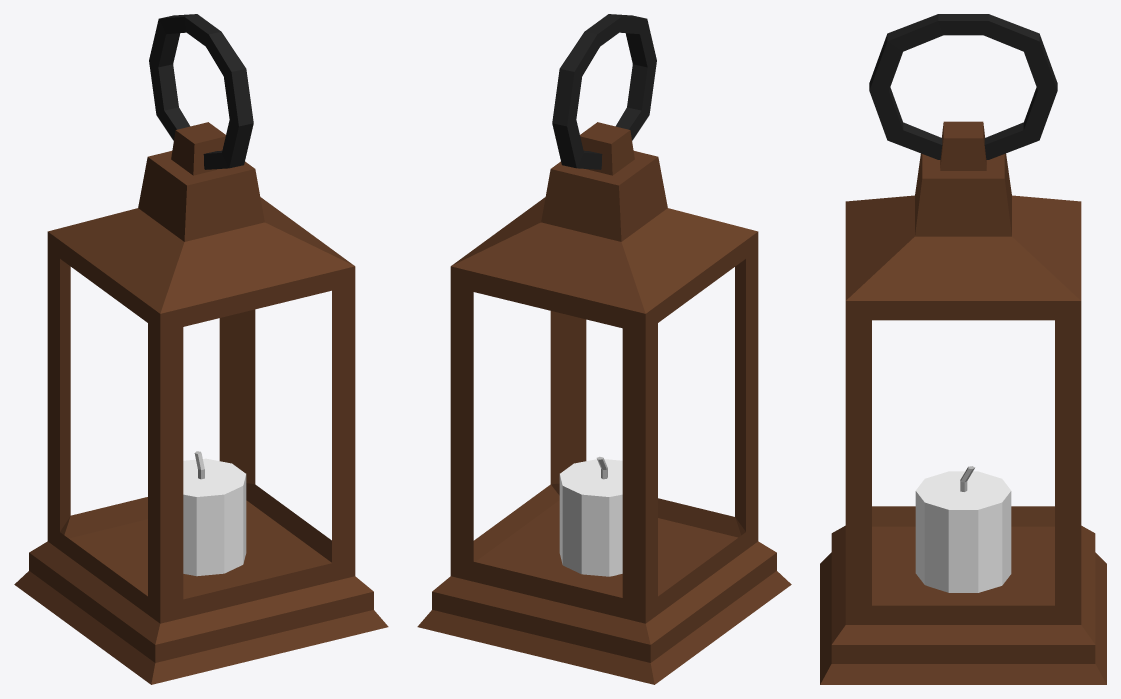
The model's file is lamp02.obj.
3 renders of one model, left to right at view 1: azimuth 30°, elevation 25°; view 2: azimuth 150°, elevation 25°; view 3: azimuth 270°, elevation 25°, orthographic. The views are drawn at different scales.
Parts seen in each view (by area): view 1: Cube; view 2: Cube; view 3: Cube.
Boxes of the visible parts, left/top/right/bottom form: Cube: left=14, top=14, right=388, bottom=684; Cube: left=417, top=14, right=791, bottom=684; Cube: left=820, top=14, right=1106, bottom=684.
Bounding box in the file's own units: 0.1568 × 0.3668 × 0.1568.
